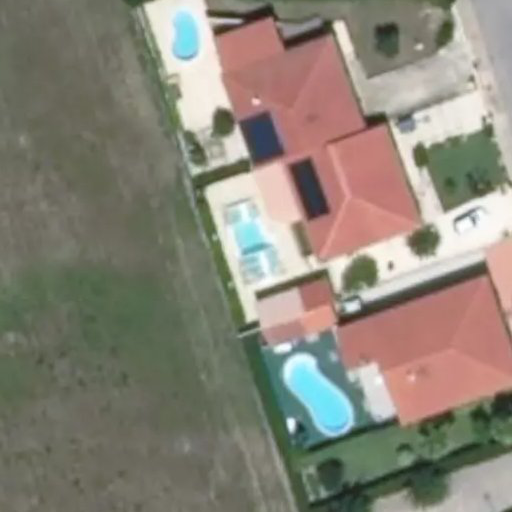pool: (228, 212, 284, 270)
